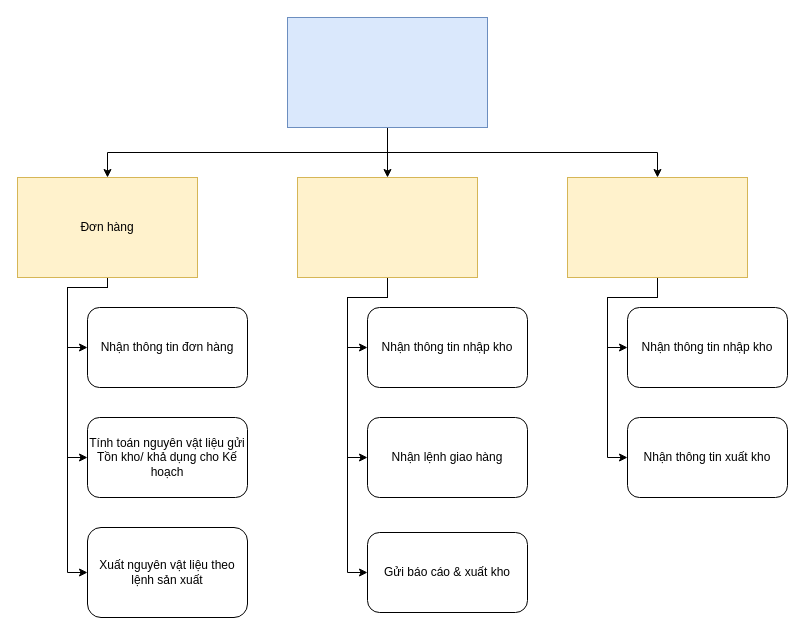
Image size: 805x635. Some labels were removed from this diagram. Each missing label, with the centre of its shape:
Nhân viên kho: the point at 387,72
Sản phẩm: the point at 387,227
Vật liệu, vật tư: the point at 657,227
